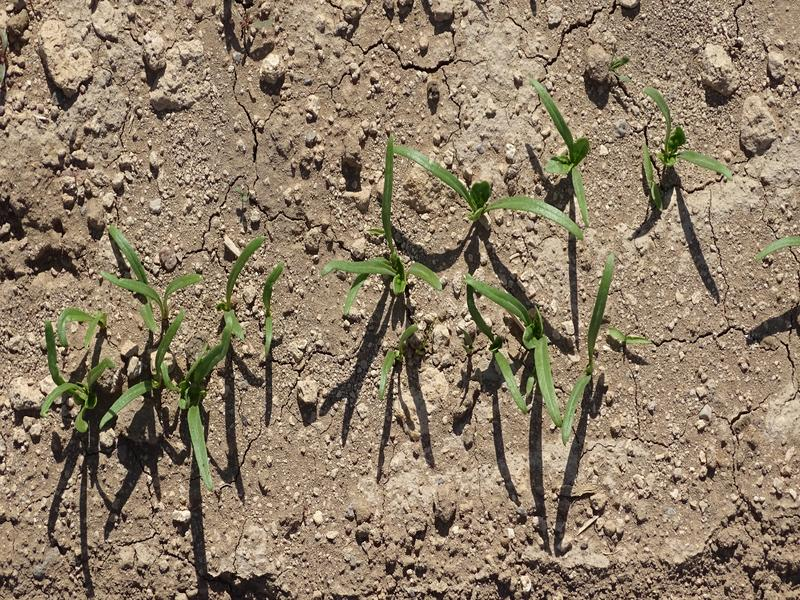Espinaca: (326, 80, 617, 444), (28, 223, 281, 485), (634, 84, 736, 204)
